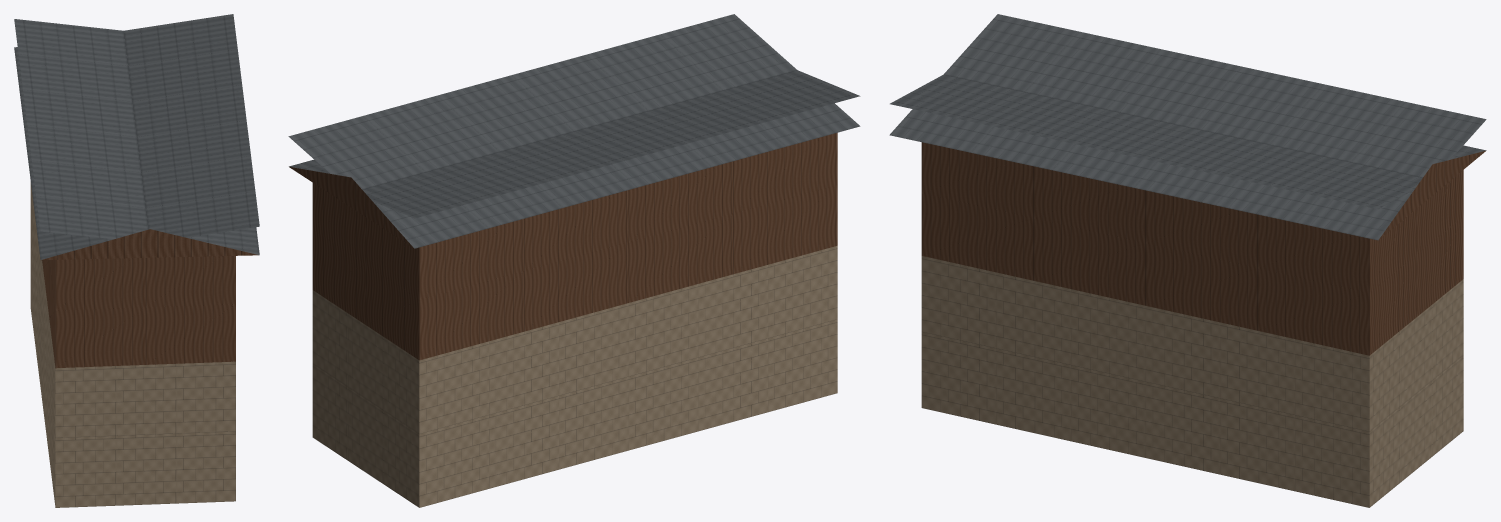
File: bld_c18_40_379.gltf
The picture shows the model from 3 angles, left to right: view 1: azimuth 30°, elevation 25°; view 2: azimuth 150°, elevation 25°; view 3: azimuth 270°, elevation 25°; orthographic projection. The views are drawn at different scales.
Parts seen in each view (by area): view 1: bld_c18_40_379; view 2: bld_c18_40_379; view 3: bld_c18_40_379.
Part boxes in pixels (left/top/right/bottom): bld_c18_40_379: left=14, top=14, right=259, bottom=507; bld_c18_40_379: left=288, top=14, right=860, bottom=507; bld_c18_40_379: left=889, top=14, right=1486, bottom=507.
Bounding box in the file's own units: 13.44 × 9.9 × 17.37.
4 materials, 4 textured.
